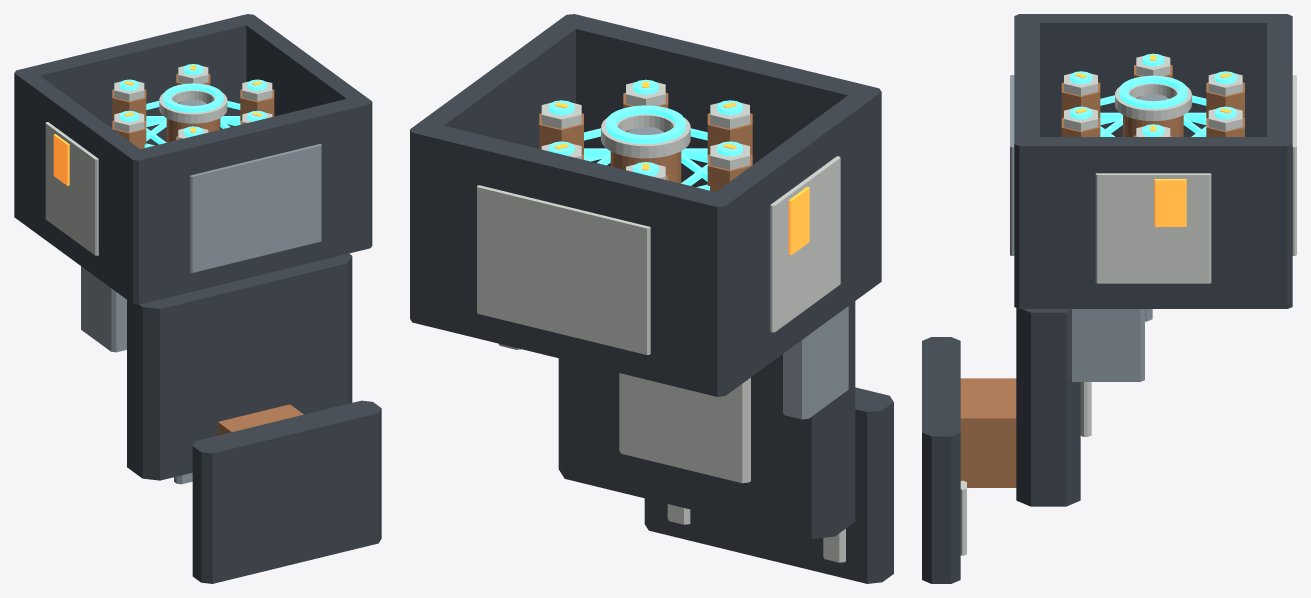
File: M01-013_disruption_net_launcher.glb
3 renders of one model, left to right at view 1: azimuth 30°, elevation 25°; view 2: azimuth 150°, elevation 25°; view 3: azimuth 270°, elevation 25°, orthographic. The views are drawn at different scales.
Parts seen in each view (by area): view 1: M01_013_Main_Chassis, M01_013_Mount_Top_Socket, M01_013_Lower_Guard, M01_013_Outer_Guard_L, M01_013_Lower_Guard_Trim, M01_013_Upper_Guard, M01_013_Outer_Guard_R, M01_013_Guard_Ceramic_L, M01_013_Support_Bracket_L, M01_013_Cassette_Front_Collar, M01_013_Mount_Riser, M01_013_Cassette_Cyan_Lip (+4 smaller); view 2: M01_013_Upper_Guard, M01_013_Outer_Guard_L, M01_013_Main_Chassis, M01_013_Upper_Guard_Trim, M01_013_Lower_Guard, M01_013_Mount_Top_Socket, M01_013_Outer_Guard_R, M01_013_Dorsal_Armor, M01_013_Guard_Ceramic_L, M01_013_Support_Bracket_L, M01_013_Cassette_Front_Collar, M01_013_Cassette_Cyan_Lip (+10 smaller); view 3: M01_013_Outer_Guard_R, M01_013_Outer_Guard_L, M01_013_Main_Chassis, M01_013_Guard_Ceramic_R, M01_013_Mount_Top_Socket, M01_013_Mount_Riser, M01_013_Support_Bracket_R, M01_013_Lower_Guard, M01_013_Upper_Guard, M01_013_Cassette_Front_Collar, M01_013_Guard_Signal_R, M01_013_Cassette_Cyan_Lip (+12 smaller).
Part boxes in pixels (x1,y1,x2,y2): M01_013_Main_Chassis: (127, 253, 352, 480); M01_013_Mount_Top_Socket: (192, 400, 381, 583); M01_013_Lower_Guard: (133, 97, 365, 302); M01_013_Outer_Guard_L: (14, 68, 148, 304); M01_013_Lower_Guard_Trim: (189, 144, 321, 272); M01_013_Upper_Guard: (21, 16, 249, 145); M01_013_Outer_Guard_R: (237, 14, 372, 249); M01_013_Guard_Ceramic_L: (45, 122, 98, 255); M01_013_Support_Bracket_L: (81, 266, 126, 352); M01_013_Cassette_Front_Collar: (159, 90, 227, 123); M01_013_Mount_Riser: (218, 404, 303, 435); M01_013_Cassette_Cyan_Lip: (163, 83, 223, 112); M01_013_Upper_Guard: (419, 125, 725, 393); M01_013_Outer_Guard_L: (704, 86, 881, 396); M01_013_Main_Chassis: (558, 301, 855, 538); M01_013_Upper_Guard_Trim: (477, 185, 650, 354); M01_013_Lower_Guard: (566, 16, 872, 186); M01_013_Mount_Top_Socket: (644, 387, 893, 583); M01_013_Outer_Guard_R: (410, 14, 582, 325); M01_013_Dorsal_Armor: (619, 373, 750, 483); M01_013_Guard_Ceramic_L: (770, 156, 840, 332); M01_013_Support_Bracket_L: (783, 306, 848, 419); M01_013_Cassette_Front_Collar: (601, 114, 690, 158); M01_013_Cassette_Cyan_Lip: (606, 105, 685, 143); M01_013_Outer_Guard_R: (1014, 137, 1292, 308); M01_013_Outer_Guard_L: (1014, 14, 1292, 136); M01_013_Main_Chassis: (1016, 308, 1080, 506); M01_013_Guard_Ceramic_R: (1095, 173, 1211, 283); M01_013_Mount_Top_Socket: (922, 337, 960, 583); M01_013_Mount_Riser: (960, 378, 1016, 487); M01_013_Support_Bracket_R: (1067, 309, 1144, 381); M01_013_Lower_Guard: (1014, 17, 1039, 142); M01_013_Upper_Guard: (1267, 19, 1292, 142); M01_013_Cassette_Front_Collar: (1115, 83, 1191, 121); M01_013_Guard_Signal_R: (1154, 179, 1186, 226); M01_013_Cassette_Cyan_Lip: (1119, 75, 1187, 108).
Bounding box in the file's own units: 0.764 × 1.17 × 0.875.
